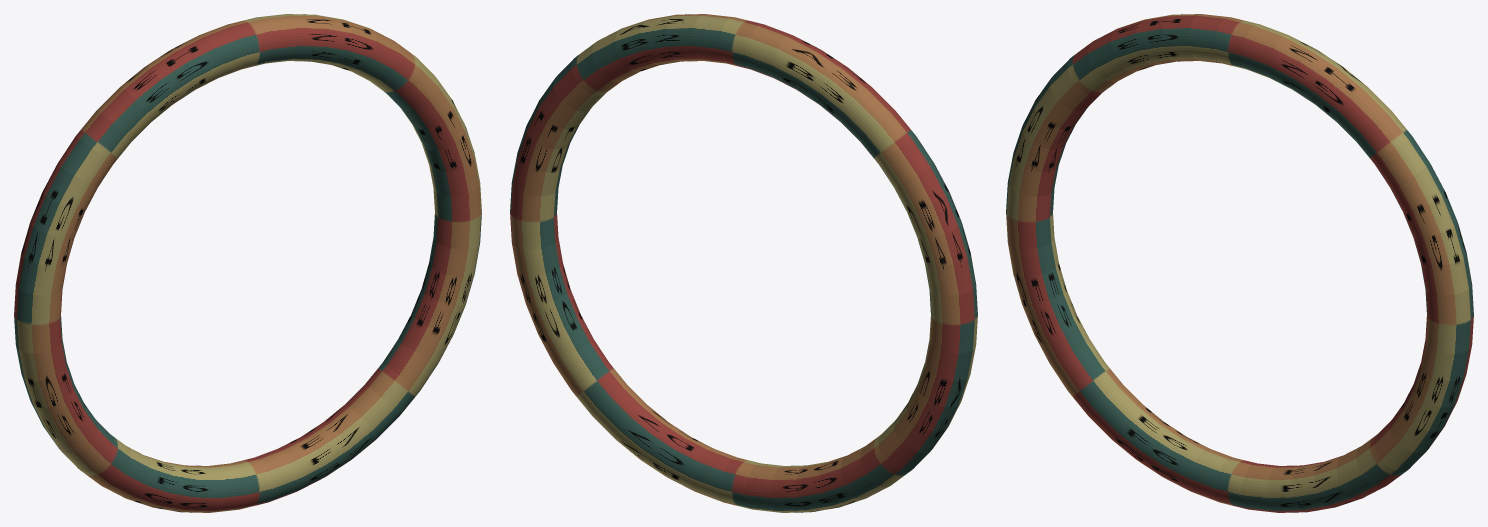
Rendered from texture_torus_R16_r0.glb.
3 renders of one model, left to right at view 1: azimuth 30°, elevation 25°; view 2: azimuth 150°, elevation 25°; view 3: azimuth 330°, elevation 25°, orthographic.
Parts seen in each view (by area): view 1: world; view 2: world; view 3: world.
Part boxes in pixels (box(x1,y1,x2,y2)): world: box(14, 14, 481, 512); world: box(510, 14, 977, 512); world: box(1006, 14, 1473, 512).
Bounding box in the file's own units: 22.67 × 22.62 × 2.
1 material, 1 textured.
